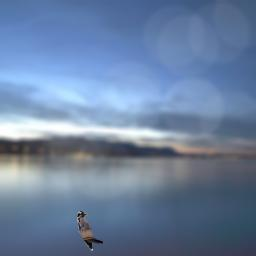Woodpecker: (77, 211, 103, 251)
